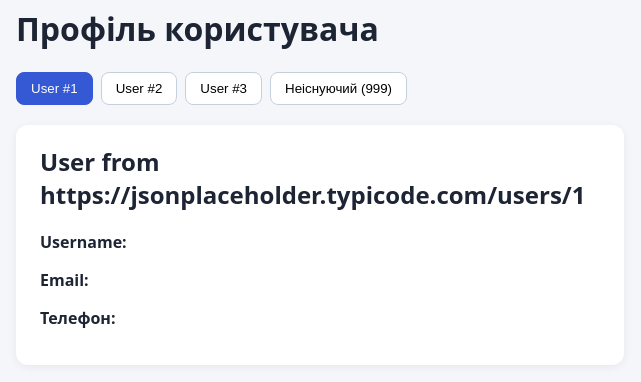
it: App › перемикає користувача по кліку і робить новий запит
Expected: the heading "User from https://jsonplaceholder.typicode.com/users/1" is shown, top-left (40, 145), bottom-right (600, 211)
Click the button "User #3": (224, 88) top-left (185, 72), bottom-right (262, 105)
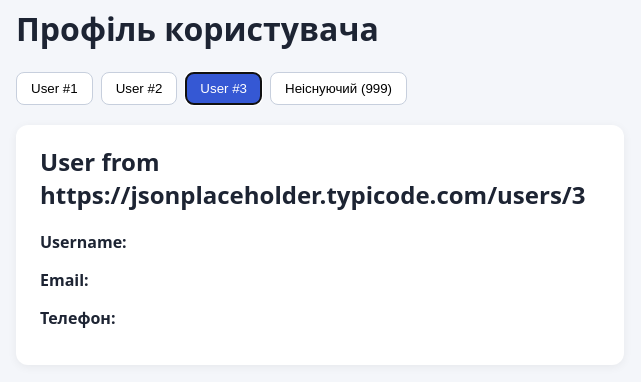
Now the heading "User from https://jsonplaceholder.typicode.com/users/3" is shown, box top-left (40, 145), bottom-right (600, 211)
